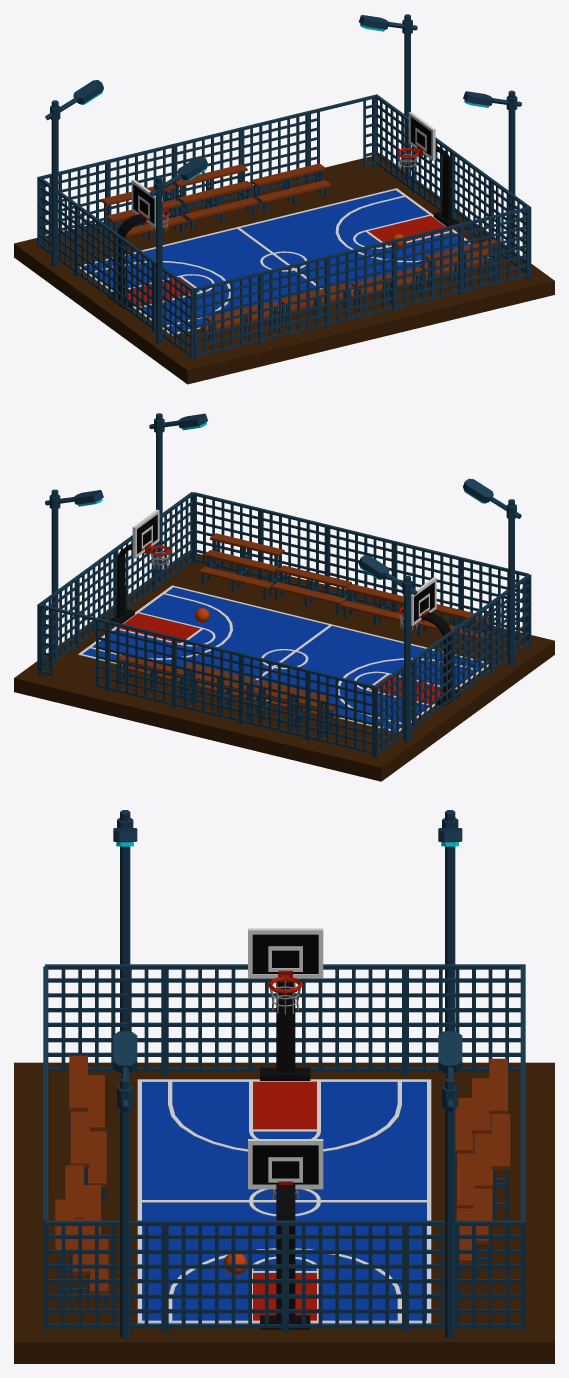
File: basketball.fbx
3 views of the same model, one above another, from view 1: azimuth 30°, elevation 25°; view 2: azimuth 150°, elevation 25°; view 3: azimuth 270°, elevation 25° (orthographic). The views are drawn at different scales.
Visible parts, largest first — view 1: Box14890, Plane1292, Object283, Box15534, Box15533, Box15535, Box14954, Box15536, Rectangle004, Box15541, Box14969, Box15548 (+22 smaller); view 2: Box14890, Plane1292, Object283, Box15540, Box15539, Box15541, Box15538, Rectangle004, Box15553, Box15535, Box15534, Box15536 (+22 smaller); view 3: Box14890, Plane1292, Object283, Rectangle004, Box15543, Box15544, Box15545, Box15542, Box15546, Box15547, Box15548, Box15549 (+12 smaller).
Boxes of the visible parts, x1,y1,x2,y2 form: Box14890: (14, 155, 554, 384); Plane1292: (84, 190, 469, 331); Object283: (108, 112, 459, 308); Box15534: (327, 239, 395, 326); Box15533: (260, 256, 328, 342); Box15535: (394, 223, 461, 310); Box14954: (193, 272, 261, 359); Box15536: (461, 207, 528, 294); Rectangle004: (79, 188, 488, 335); Box15541: (241, 111, 308, 195); Box14969: (173, 164, 258, 230); Box15548: (75, 204, 116, 302); Box14890: (14, 553, 554, 781); Plane1292: (83, 587, 483, 729); Object283: (109, 509, 460, 706); Box15540: (173, 637, 241, 723); Box15539: (240, 653, 308, 740); Box15541: (107, 620, 174, 707); Box15538: (307, 669, 375, 756); Rectangle004: (78, 585, 488, 732); Box15553: (199, 533, 284, 599); Box15535: (260, 508, 327, 593); Box15534: (326, 524, 394, 611); Box15536: (193, 492, 261, 579); Box14890: (14, 1062, 554, 1363); Plane1292: (142, 1082, 426, 1320); Object283: (248, 928, 323, 1329); Rectangle004: (137, 1079, 431, 1323); Box15543: (165, 1220, 285, 1331); Box15544: (285, 1220, 405, 1331); Box15545: (405, 1220, 525, 1331); Box15542: (45, 1220, 164, 1331); Box15546: (45, 964, 164, 1075); Box15547: (165, 964, 276, 1075); Box15548: (295, 964, 405, 1075); Box15549: (405, 964, 525, 1075).
Size of the model in its own units: 1111 by 538 by 900.
